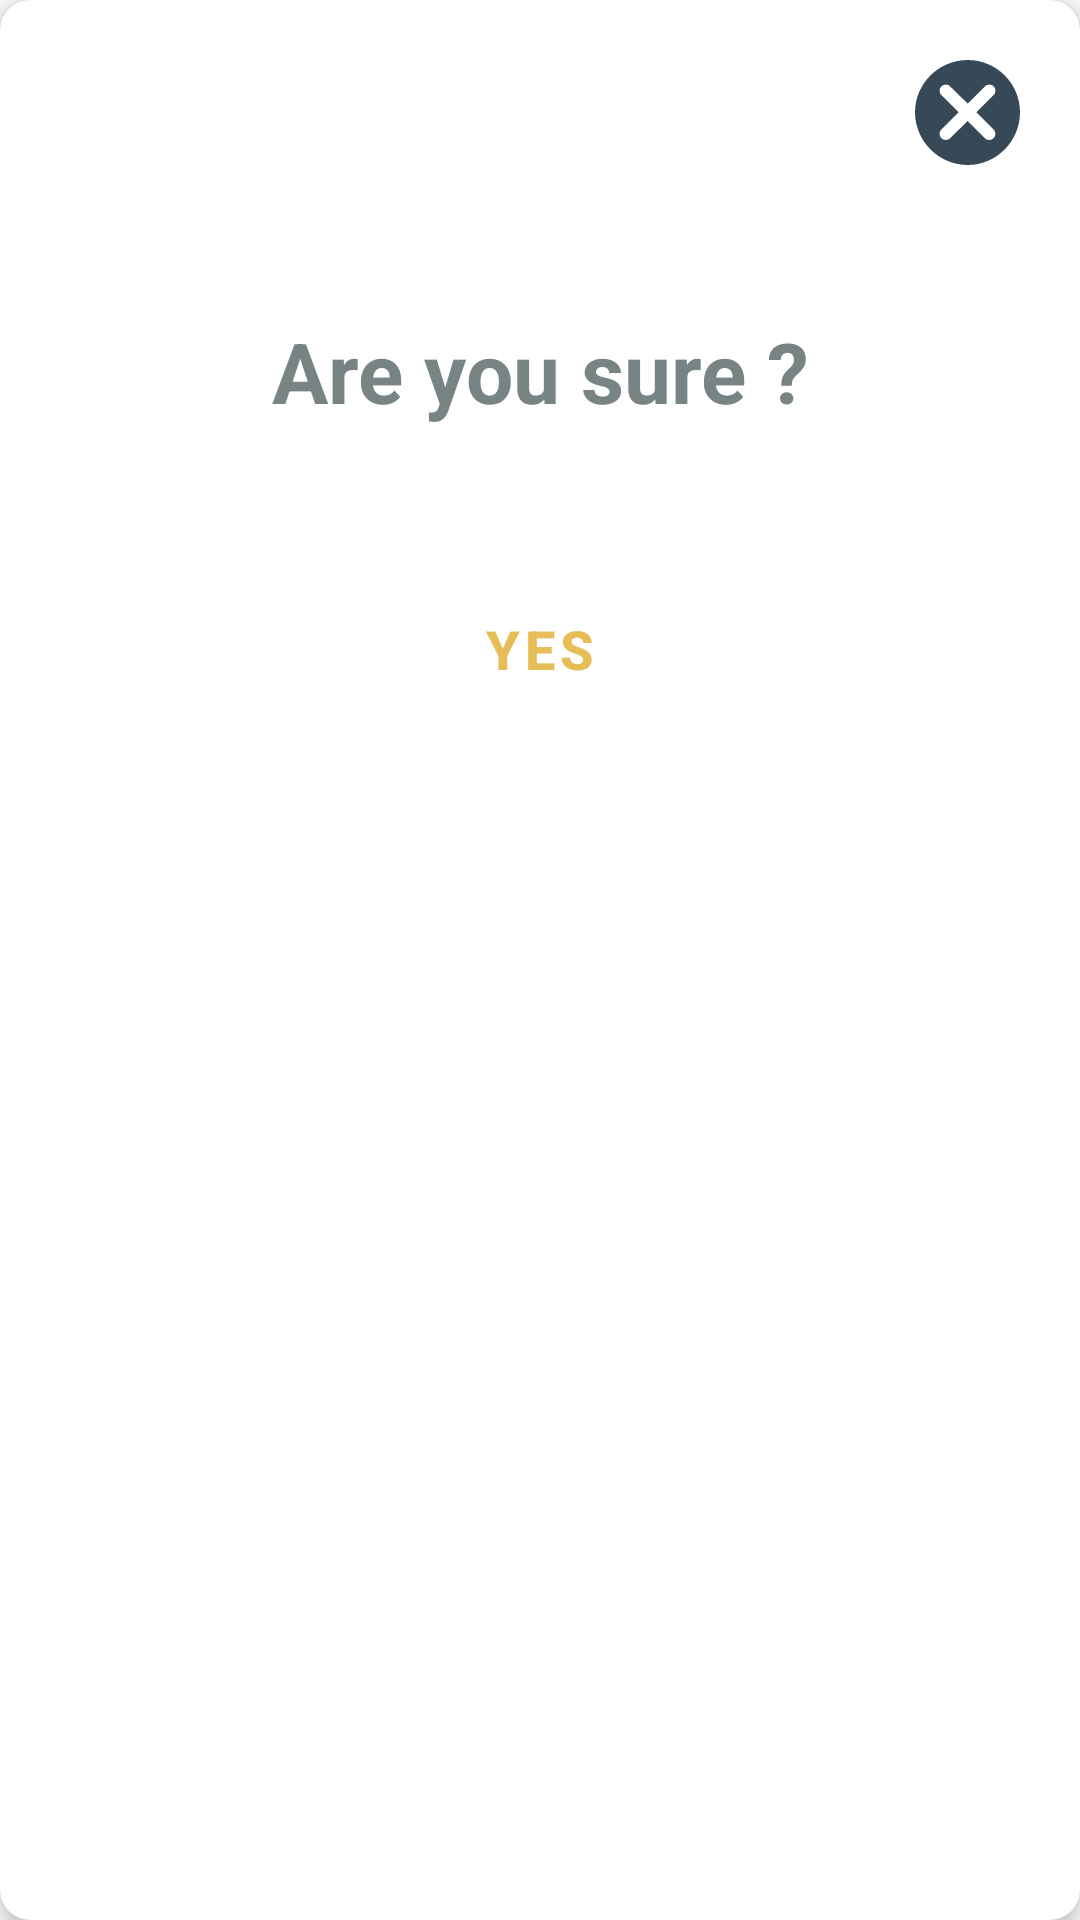

Icon click points for this 1080×1920 phone screenshot, format [x,y]:
close: [967,112]
